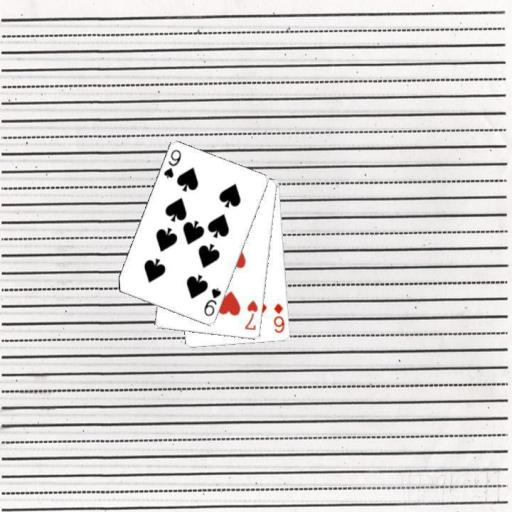card-corner: (160, 146, 182, 180), (200, 285, 222, 318), (242, 297, 260, 332), (271, 300, 287, 335)
